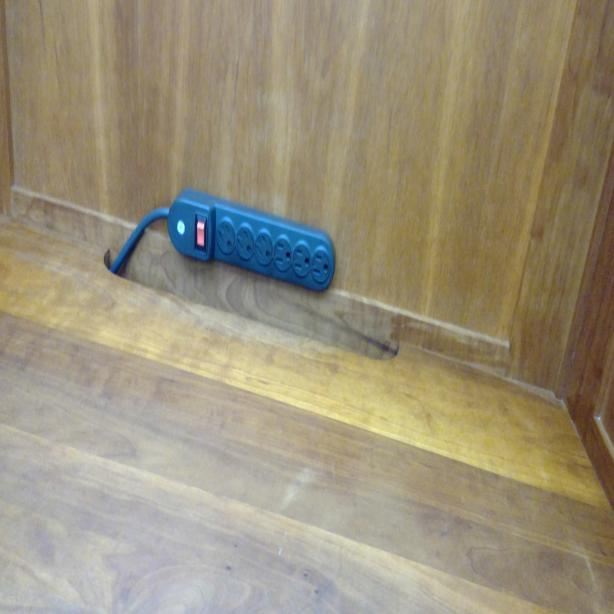typeb: (292, 238, 312, 280), (236, 222, 255, 258), (254, 228, 273, 263), (274, 236, 292, 272), (312, 248, 330, 284), (217, 221, 234, 256)
